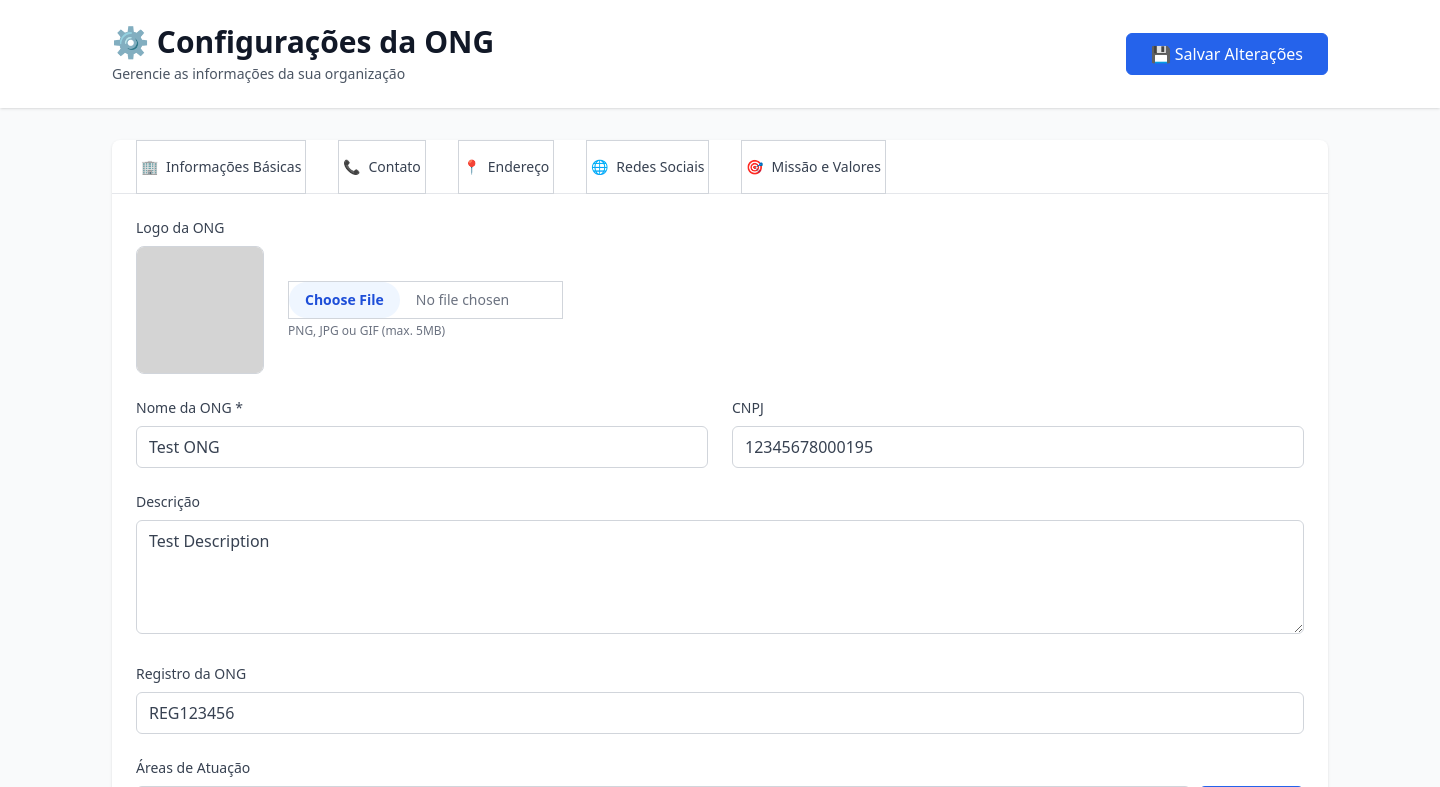
Scenario: ONGSettingsPage › Address Tab › should display address form
Click the button "📍Endereço". click: (506, 167)
box: [458,140,554,194]
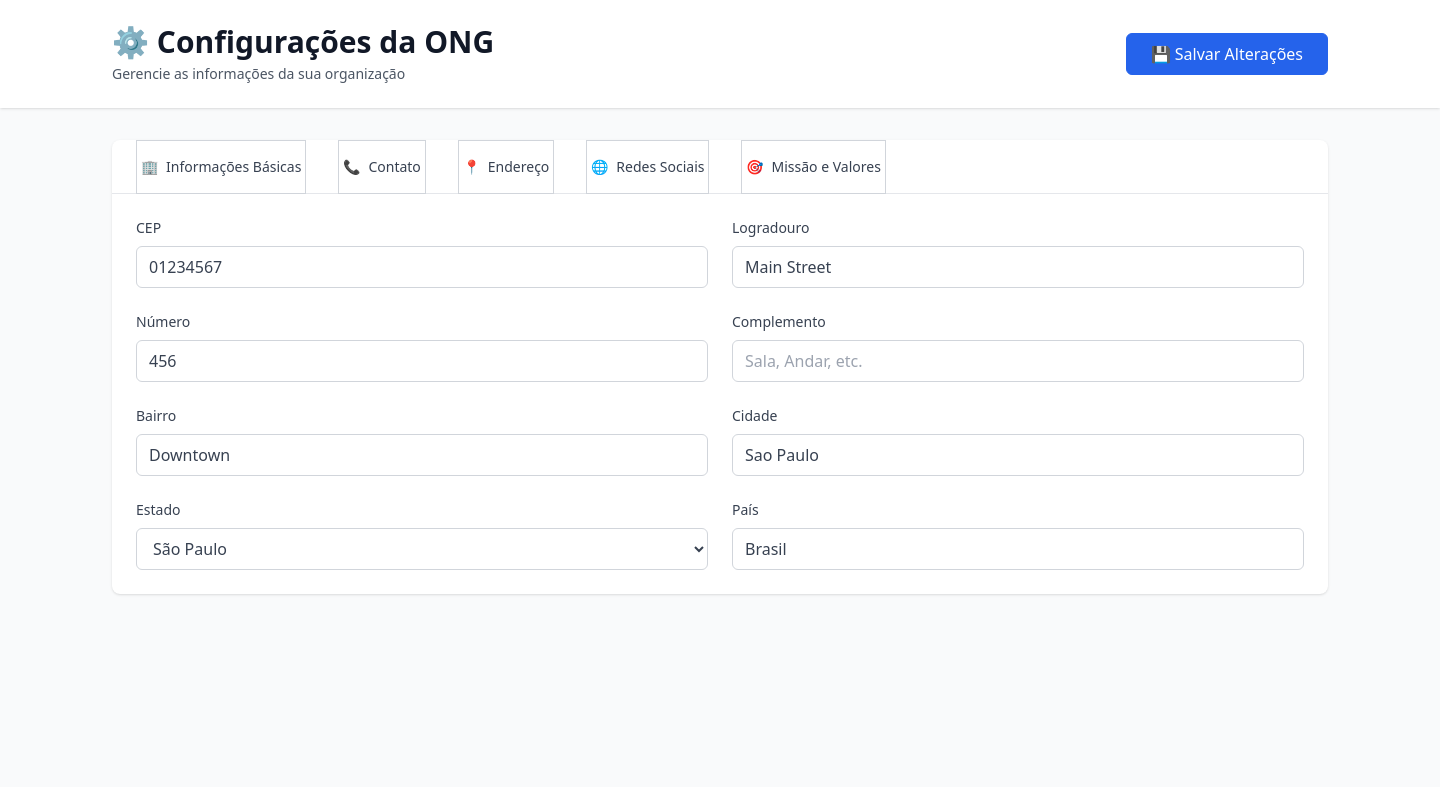
Result: the field showing "Main Street" below "Logradouro" is shown at [732,246,1304,288]
Result: the field showing "456" below "Número" is shown at [136,340,708,382]
Result: the field showing "Downtown" below "Bairro" is shown at [136,434,708,476]
